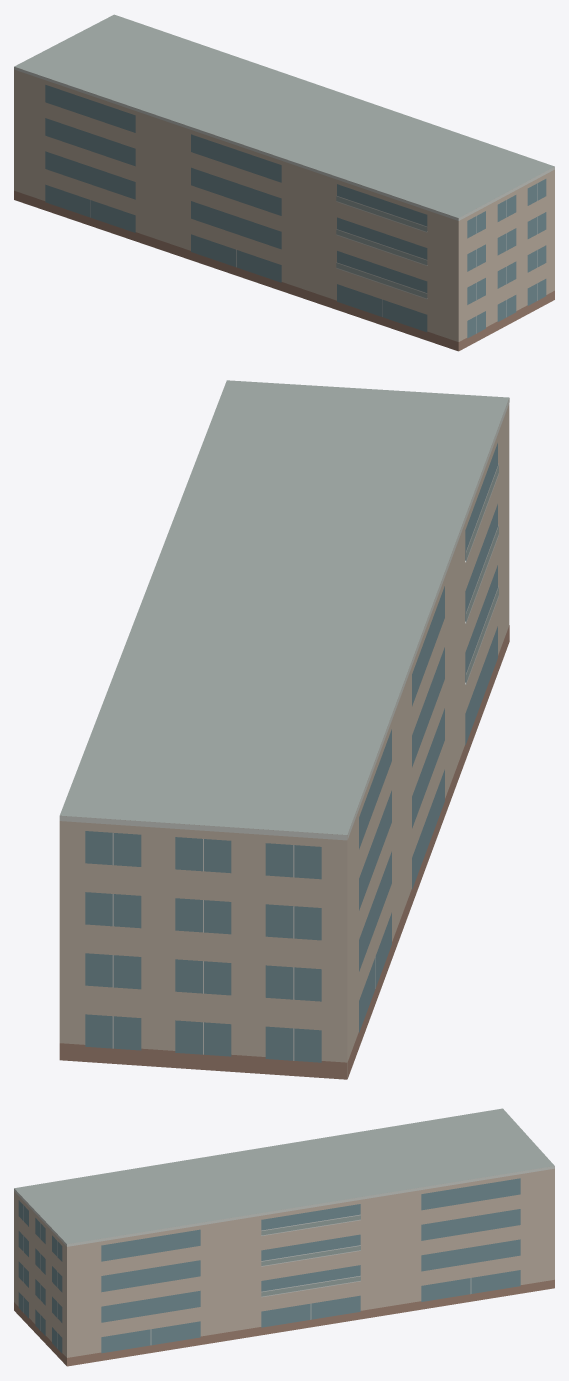
Rendered from survey-upis-32857749.glb.
3 renders of one model, top to bottom at view 1: azimuth 30°, elevation 25°; view 2: azimuth 150°, elevation 25°; view 3: azimuth 270°, elevation 25°, orthographic. The views are drawn at different scales.
Visible parts, largest first — view 1: survey-upis-32857749.tmp; view 2: survey-upis-32857749.tmp; view 3: survey-upis-32857749.tmp.
Part boxes in pixels (x1=…): survey-upis-32857749.tmp: x1=14, y1=14, x2=554, y2=351; survey-upis-32857749.tmp: x1=59, y1=380, x2=509, y2=1079; survey-upis-32857749.tmp: x1=14, y1=1108, x2=554, y2=1366.
Size of the model in its own units: 26.44 by 11.1 by 44.51.
